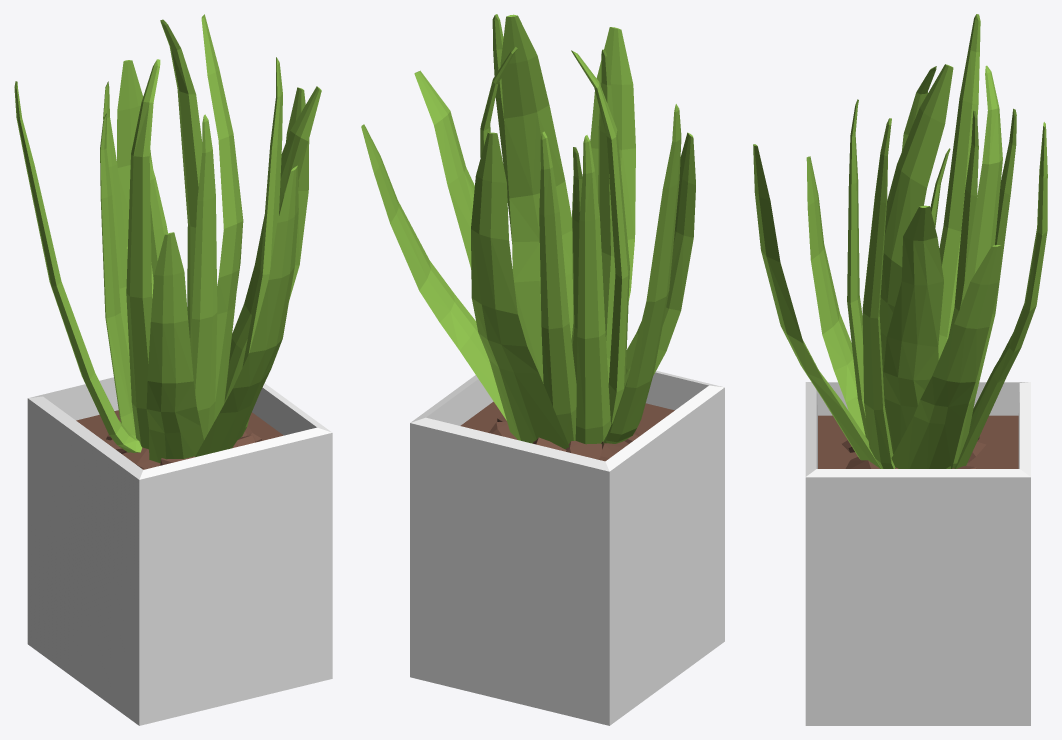
File: plant_white_pot.glb
3 views of the same model, side by side, from view 1: azimuth 30°, elevation 25°; view 2: azimuth 150°, elevation 25°; view 3: azimuth 270°, elevation 25° (orthographic). The views are drawn at different scales.
Visible parts, largest first — view 1: group1885116500, group1507777984, group2053840647, group1406455588, group1377145234, group560799048, group1647754183, group1781696643, group1025492697, group24448074, group1989238829, group714662036 (+3 smaller); view 2: group1885116500, group560799048, group714662036, group1781696643, group1308825903, group1647754183, group31856083, group1406455588, group2053840647, group1507777984, group24448074, group1377145234 (+3 smaller); view 3: group1885116500, group31856083, group24448074, group560799048, group1989238829, group1647754183, group2053840647, group1507777984, group1025492697, group714662036, group1377145234, group1781696643 (+2 smaller).
Part boxes in pixels (x1,y1,x2,y2): group1885116500: (27,377,332,725); group1507777984: (146,232,203,463); group2053840647: (195,165,298,457); group1406455588: (126,59,160,449); group1377145234: (190,114,217,439); group560799048: (201,14,243,421); group1647754183: (14,81,142,452); group1781696643: (100,113,135,435); group1025492697: (160,19,202,337); group24448074: (224,86,321,403); group1989238829: (241,57,282,436); group714662036: (117,60,153,298); group1885116500: (410,370,724,725); group560799048: (500,14,573,383); group714662036: (471,132,569,448); group1781696643: (575,135,610,444); group1308825903: (539,131,576,444); group1647754183: (602,104,681,444); group31856083: (361,124,506,420); group1406455588: (571,50,629,425); group2053840647: (590,27,635,300); group1507777984: (624,132,695,389); group24448074: (414,70,474,269); group1377145234: (598,49,615,382); group1885116500: (805,382,1030,725); group31856083: (891,245,1001,468); group24448074: (883,205,950,468); group560799048: (879,64,953,403); group1989238829: (862,118,895,468); group1647754183: (938,14,980,359); group2053840647: (753,144,881,468); group1507777984: (806,156,865,435); group1025492697: (952,65,1002,468); group714662036: (954,122,1047,468); group1377145234: (847,99,868,440); group1781696643: (948,110,978,336).
Size of the model in its own units: 1.77 by 3.56 by 1.5.
